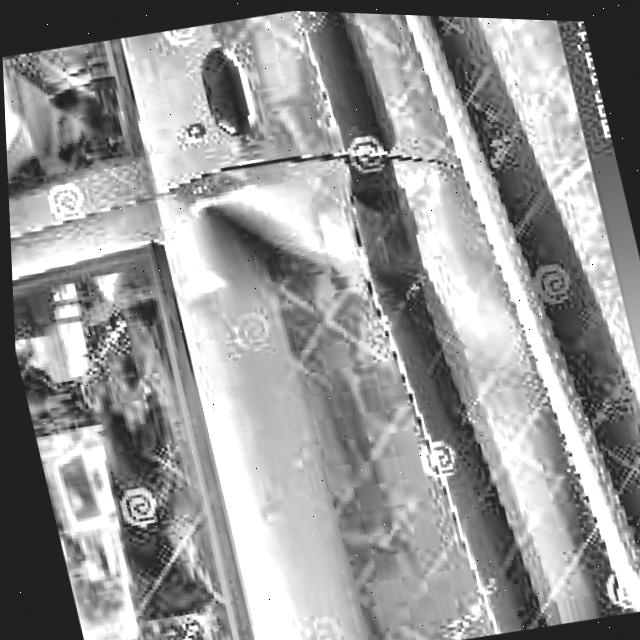door_dent: (200, 144, 484, 379)
